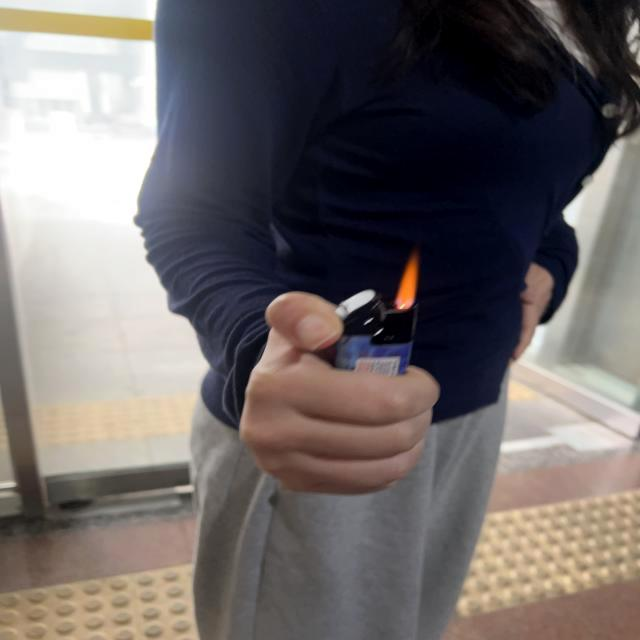fire: (392, 258, 420, 306)
